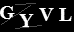G: (1, 5, 14, 20)
L: (57, 7, 73, 22)
V: (37, 7, 54, 22)
Y: (17, 12, 34, 29)
